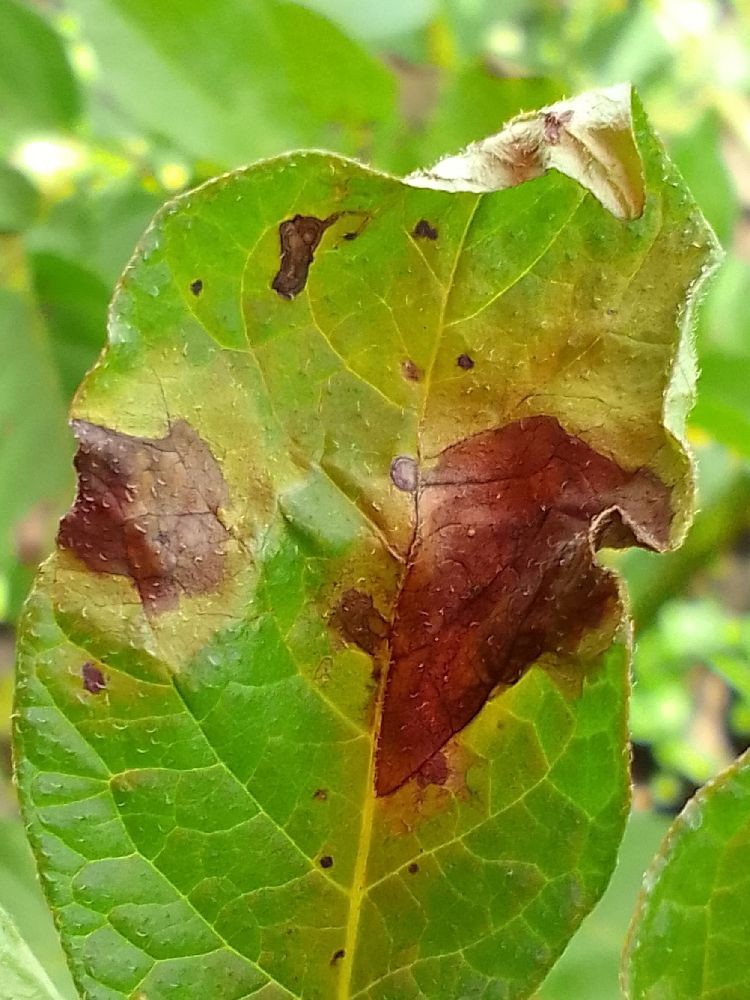late_blight: (0, 203, 712, 999), (461, 93, 664, 240), (637, 472, 750, 627), (679, 655, 750, 782)
